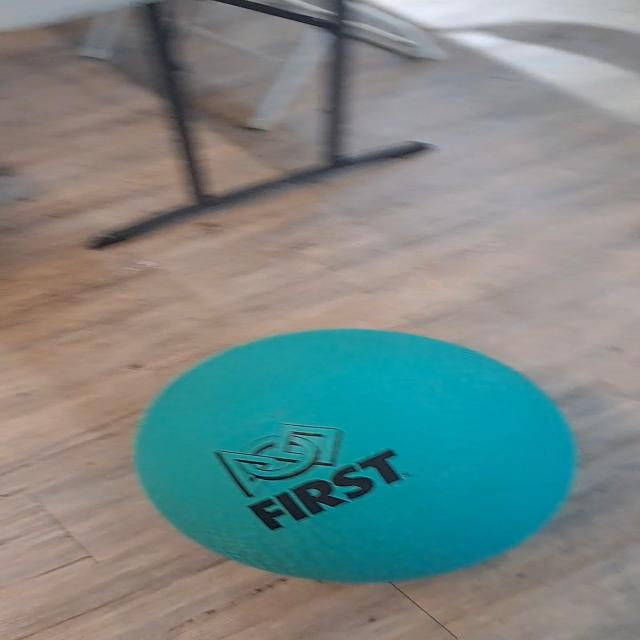ALGAE: (130, 326, 580, 585)
